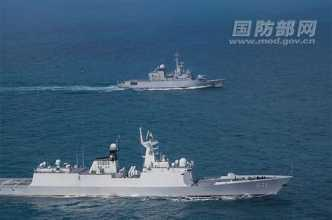warship: (4, 136, 296, 196), (112, 53, 232, 93)
